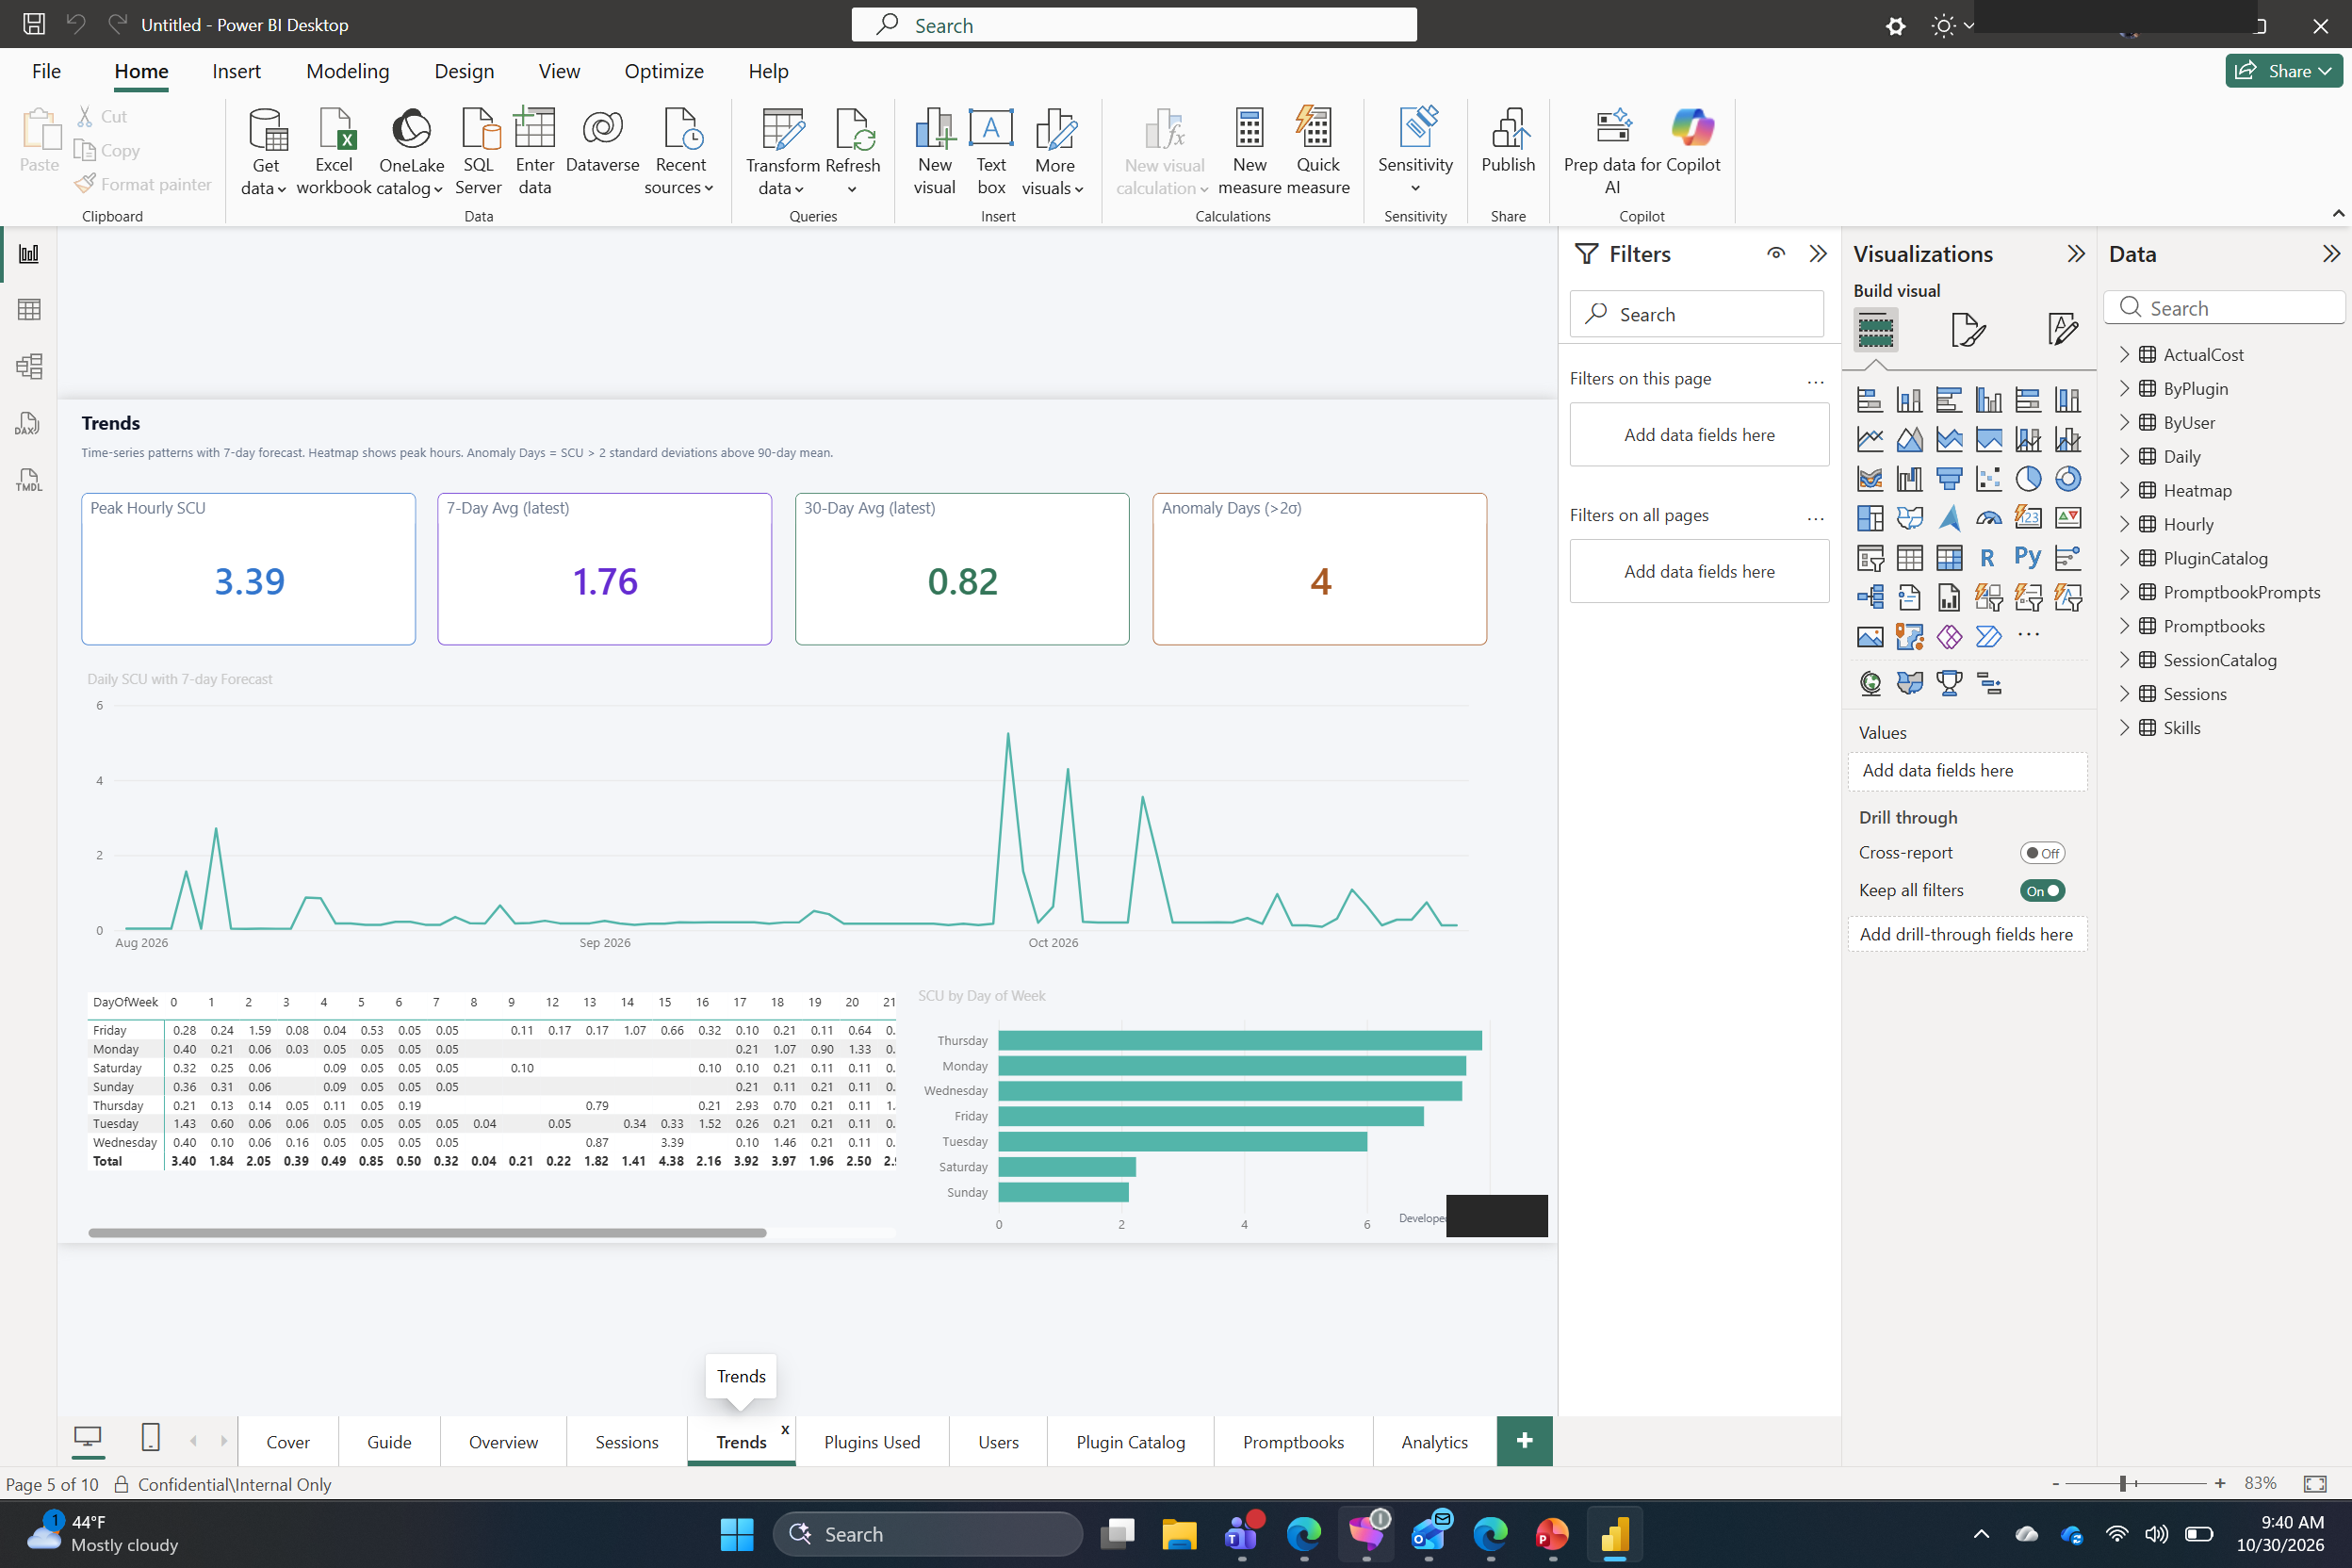

This screenshot's page, from the dashboard's own definition file:
{"tool":"powerbi","page":{"name":"Trends","canvas":[1280,720],"ordinal":4},"visuals":[{"type":"textbox","box":[20,8,1240,32],"z":0},{"type":"textbox","box":[20,34,1240,24],"z":0},{"type":"card","title":"Peak Hourly SCU","fields":{"Values":["Hourly.Peak Hourly SCU"]},"box":[20,80,285,130],"z":0},{"type":"card","title":"7-Day Avg (latest)","fields":{"Values":["Daily.Rolling 7d Latest"]},"box":[325,80,285,130],"z":0},{"type":"card","title":"30-Day Avg (latest)","fields":{"Values":["Daily.Rolling 30d Latest"]},"box":[630,80,285,130],"z":0},{"type":"card","title":"Anomaly Days (>2σ)","fields":{"Values":["Daily.Anomaly Days"]},"box":[935,80,285,130],"z":0},{"type":"lineChart","title":"Daily SCU with 7-day Forecast","fields":{"Category":["Daily.Day"],"Y":["Daily.Daily SCU"]},"box":[20,230,1200,250],"z":0},{"type":"pivotTable","title":"Day-of-Week × Hour Heatmap","fields":{"Rows":["Hourly.DayOfWeek"],"Columns":["Hourly.HourOfDay"],"Values":["Hourly.Hourly SCU"]},"box":[20,500,700,220],"z":0},{"type":"barChart","title":"SCU by Day of Week","fields":{"Category":["Hourly.DayOfWeek"],"Y":["Hourly.Hourly SCU"]},"box":[730,500,500,220],"z":0},{"type":"textbox","box":[1060,686,200,22],"z":0}]}

Visuals, with their boxes on the page's 1280x720 design canvas (x1, y1, x2, y2). These are canvas units, not pixel positions in the 2352x1568 screenshot, which may show the page scaled, cropped or inside an application window:
textbox: <box>20,8,1260,40</box>
textbox: <box>20,34,1260,58</box>
"Peak Hourly SCU" card: <box>20,80,305,210</box>
"7-Day Avg (latest)" card: <box>325,80,610,210</box>
"30-Day Avg (latest)" card: <box>630,80,915,210</box>
"Anomaly Days (>2σ)" card: <box>935,80,1220,210</box>
"Daily SCU with 7-day Forecast" lineChart: <box>20,230,1220,480</box>
"Day-of-Week × Hour Heatmap" pivotTable: <box>20,500,720,720</box>
"SCU by Day of Week" barChart: <box>730,500,1230,720</box>
textbox: <box>1060,686,1260,708</box>
